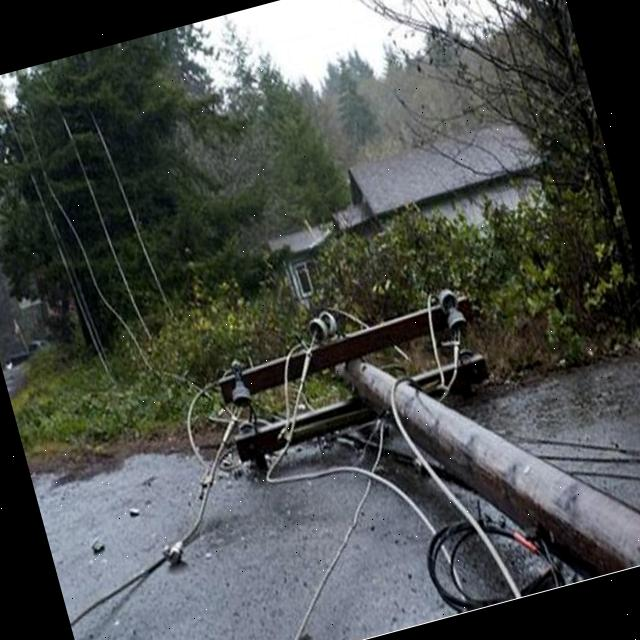Broken Pole: (211, 296, 640, 561)
